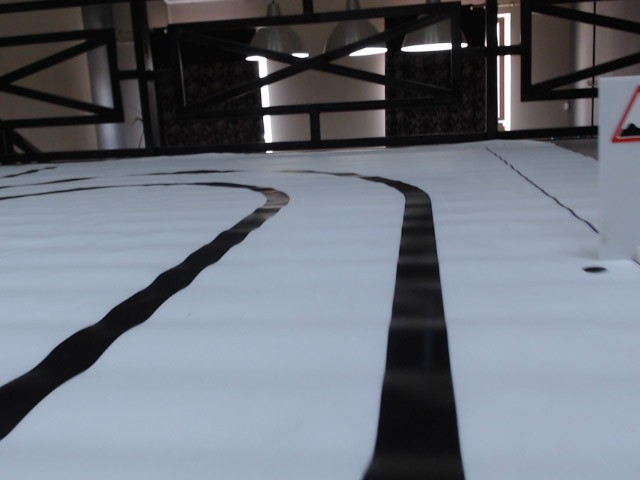Nerov: (608, 83, 640, 149)
